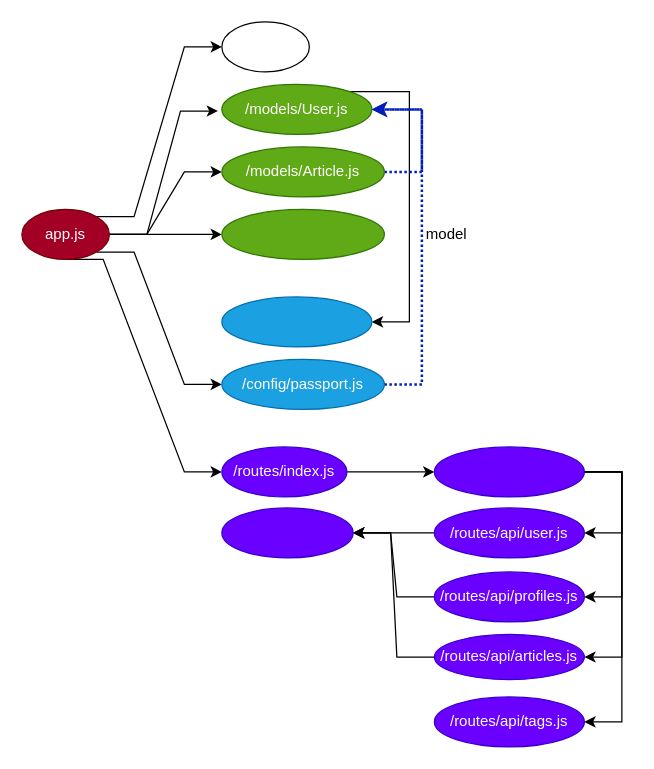
This 654x769 diagram has some shape labels left out. Here are the shapes that lost their labels. From the top down, the centre of each, then its label:
(x=265, y=46): /public
(x=302, y=233): /models/Comment.js
(x=296, y=321): /config/index.js
(x=508, y=471): /routes/api/index.js
(x=287, y=532): /routes/auth.js
